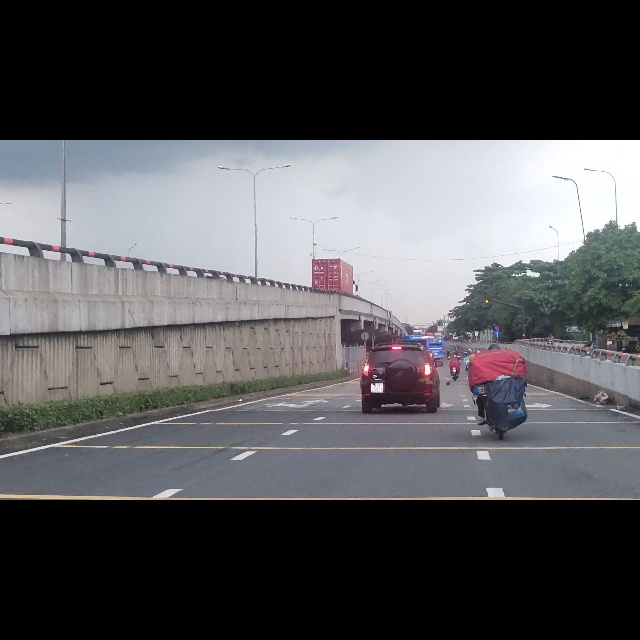bien_cam: (494, 340, 501, 350)
